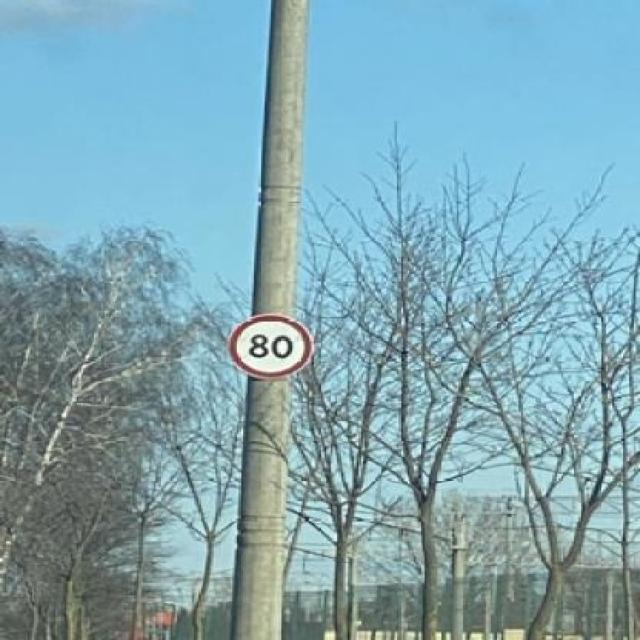forb_speed_over_80: (237, 313, 311, 379)
